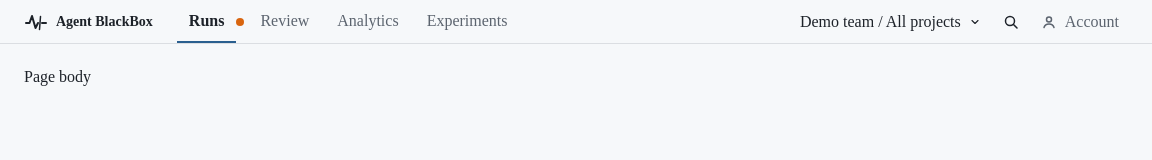
Test: application frame › fixture mode: no Settings link, no email, no sign-out; the menu is just 'Account'
Click the button "Account" at (1080, 22), box [1032,6,1128,38]
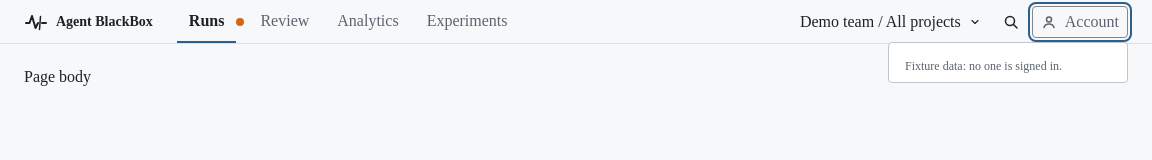
expect the text "Fixture data: no one is signed in." is shown: met, box [905,58,1062,72]
